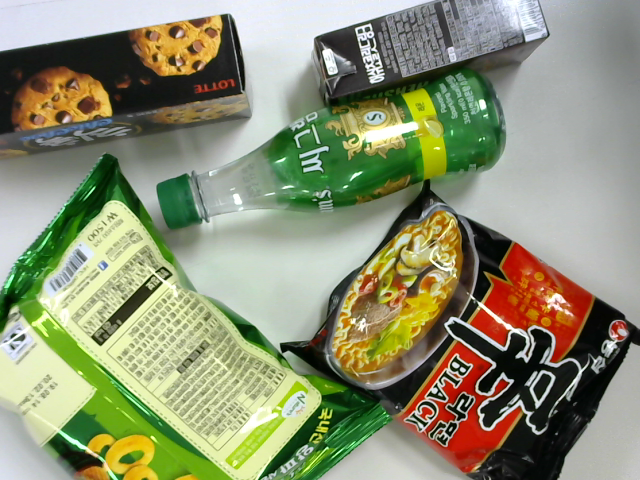Chicchok_Original_2400: (3, 26, 251, 148)
Grilled_Onions: (5, 156, 390, 480)
Hush_Choco_Drink: (307, 4, 545, 94)
Seagram_Lemon_Carbonated_Water: (155, 78, 513, 230)
Sinramen_Black: (295, 190, 637, 480)
